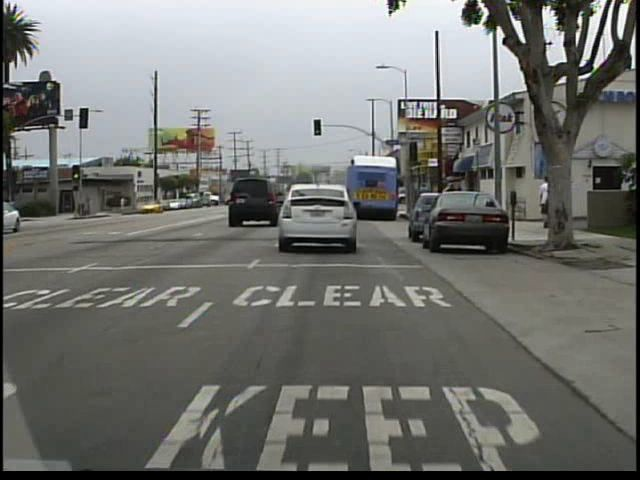person: (534, 173, 553, 232), (545, 177, 562, 233), (415, 180, 434, 220), (119, 195, 129, 213)
